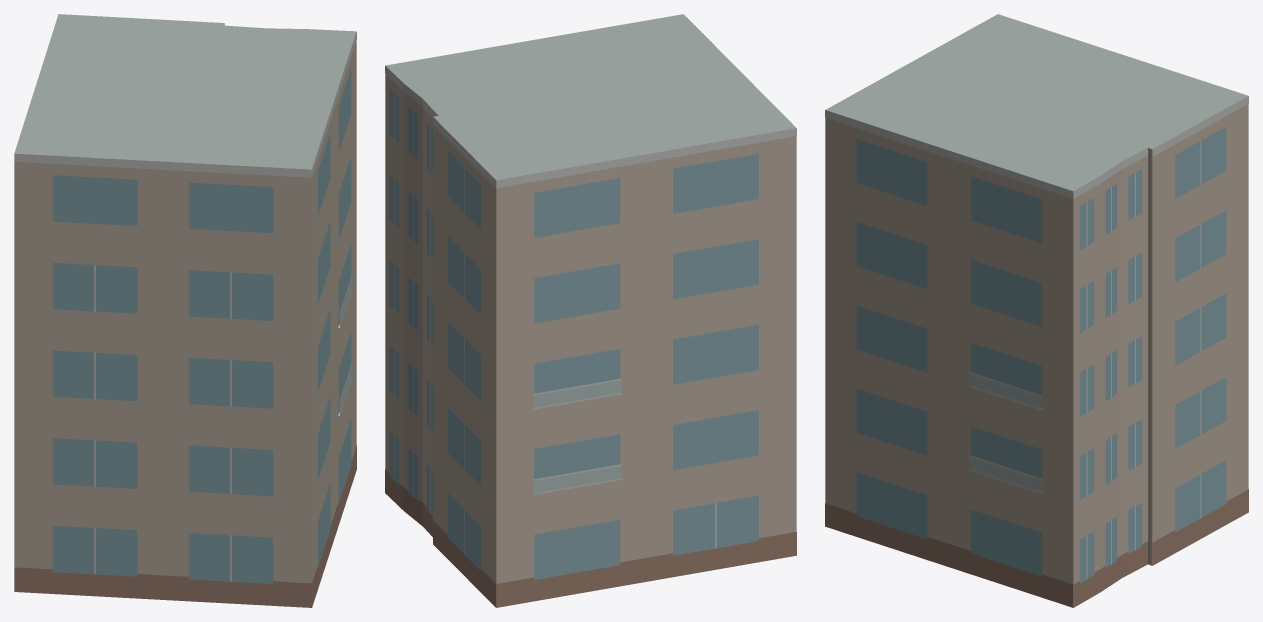
File: survey-upis-32852808.glb
The picture shows the model from 3 angles, left to right: view 1: azimuth 30°, elevation 25°; view 2: azimuth 150°, elevation 25°; view 3: azimuth 270°, elevation 25°; orthographic projection. The views are drawn at different scales.
Visible parts, largest first — view 1: survey-upis-32852808.tmp; view 2: survey-upis-32852808.tmp; view 3: survey-upis-32852808.tmp.
Boxes of the visible parts, box(x1,y1,x2,y2) form: survey-upis-32852808.tmp: box(14, 14, 356, 607); survey-upis-32852808.tmp: box(385, 14, 796, 607); survey-upis-32852808.tmp: box(825, 14, 1248, 607).
Bounding box in the file's own units: 11.97 × 13.1 × 12.08.
